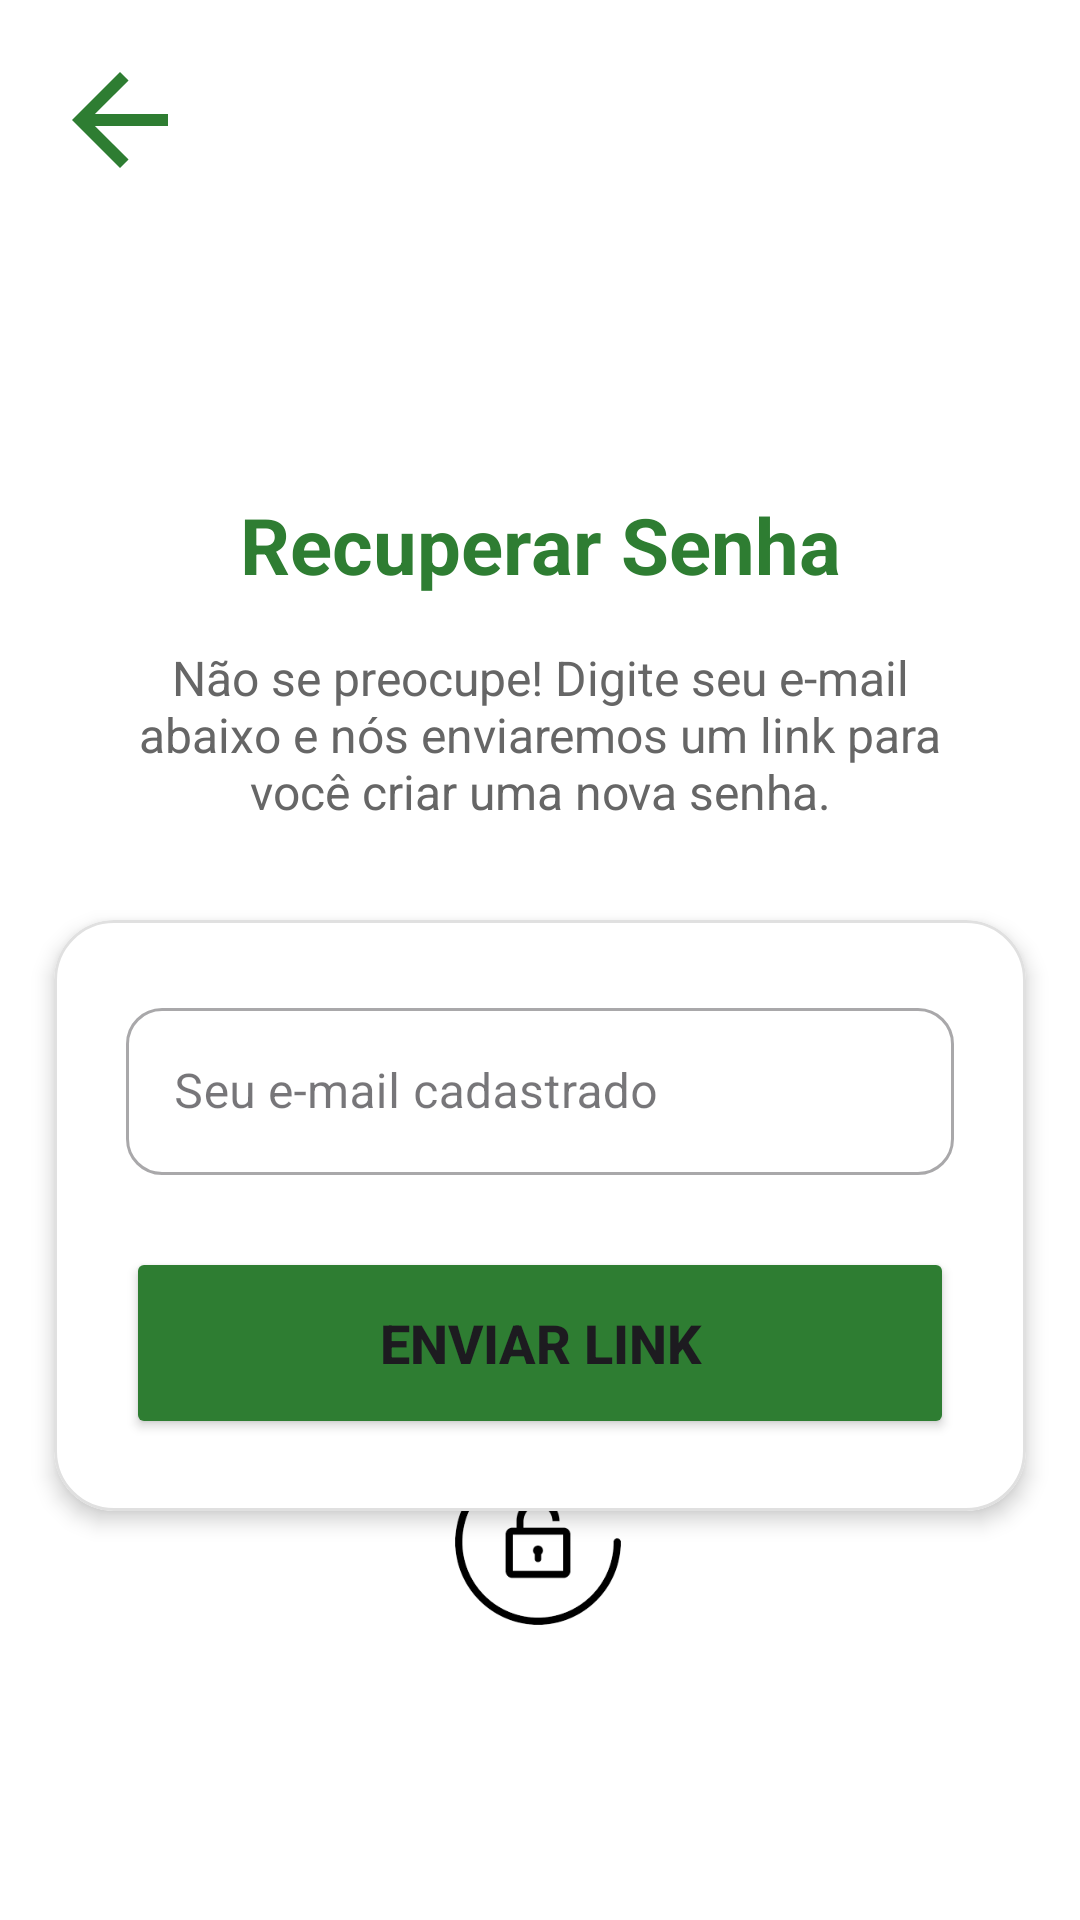

Point at icon controls on the screen. Image size 1080×1920, points as (x=x, y=y).
arrow back: (x=120, y=120)
